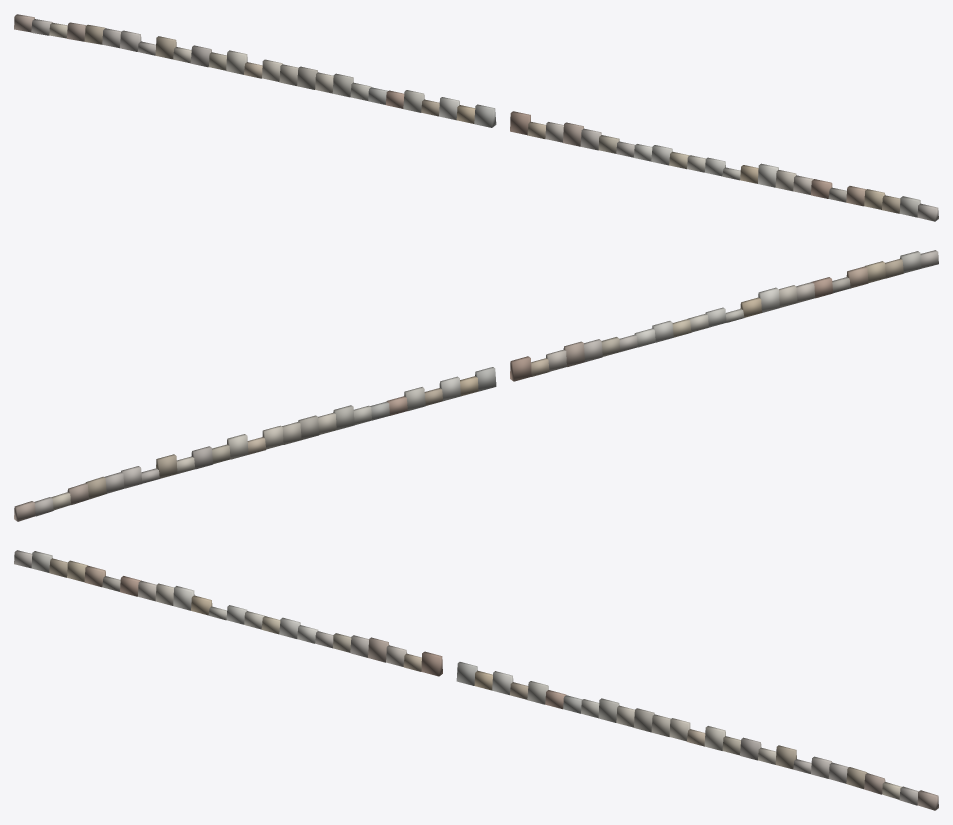
Rendered from farm_14_1_collision.glb.
3 views of the same model, one above another, from view 1: azimuth 90°, elevation 25°; view 2: azimuth 150°, elevation 25°; view 3: azimuth 270°, elevation 25° (orthographic).
Parts seen in each view (by area): view 1: geometry_0; view 2: geometry_0; view 3: geometry_0.
Boxes of the visible parts, <box> form: geometry_0: <box>14,14,938,221</box>; geometry_0: <box>14,250,938,521</box>; geometry_0: <box>14,550,938,810</box>.
Bounding box in the file's own units: 40.89 × 3.63 × 71.92.
